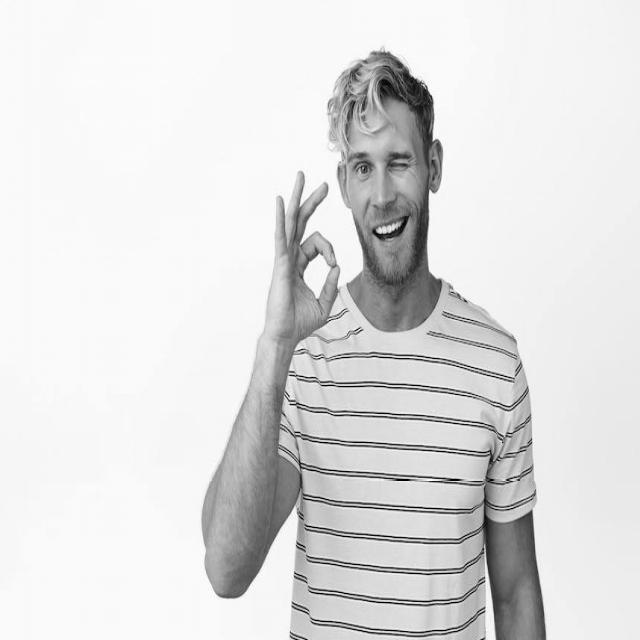perfect: (256, 162, 343, 349)
